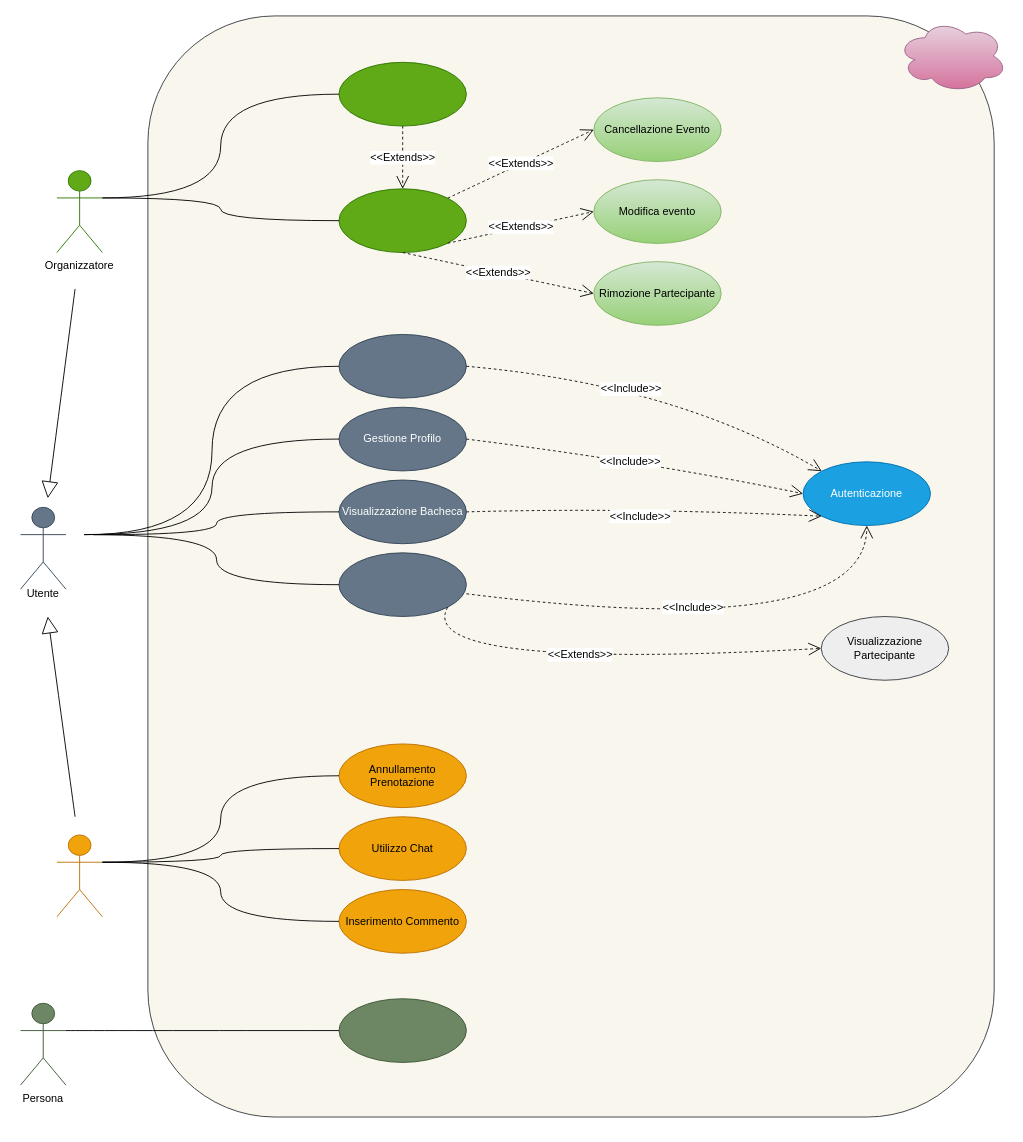
Some shapes in this 1023 by 1142 pixel diagram are drawn without their labels. The shapes that lost their labels are listed below. From the top down, each one's centre as x and y in pixels, then its label:
(952,55): StudyLink
(402,93): Creazione Evento
(402,220): Gestione Evento
(402,366): Visualizzazione commenti
(402,584): Prenotazione Evento
(79,875): Partecipante
(402,1030): Registrazione
